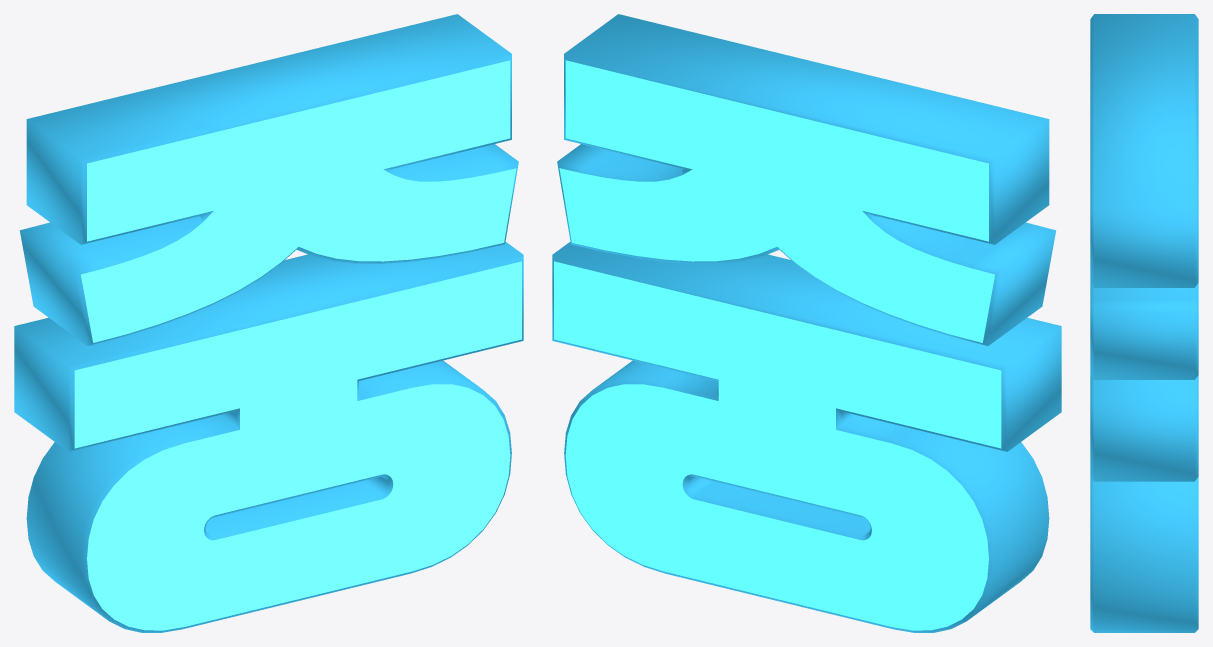
The picture shows the model from 3 angles, left to right: view 1: azimuth 30°, elevation 25°; view 2: azimuth 150°, elevation 25°; view 3: azimuth 270°, elevation 25°; orthographic projection. The views are drawn at different scales.
Visible parts, largest first — view 1: glyph; view 2: glyph; view 3: glyph.
Part boxes in pixels (x1,y1,x2,y2): glyph: (14, 14, 523, 632); glyph: (552, 14, 1061, 632); glyph: (1090, 14, 1198, 632).
Bounding box in the file's own units: 0.0725 × 0.0754 × 0.0162.
